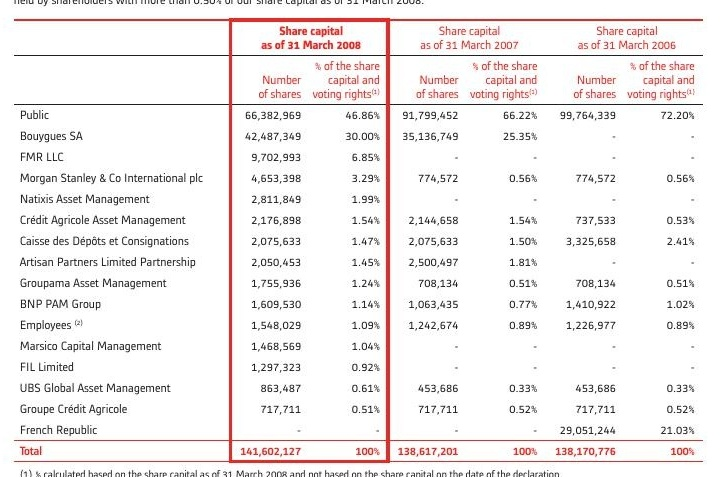table: (0, 0, 721, 477)
